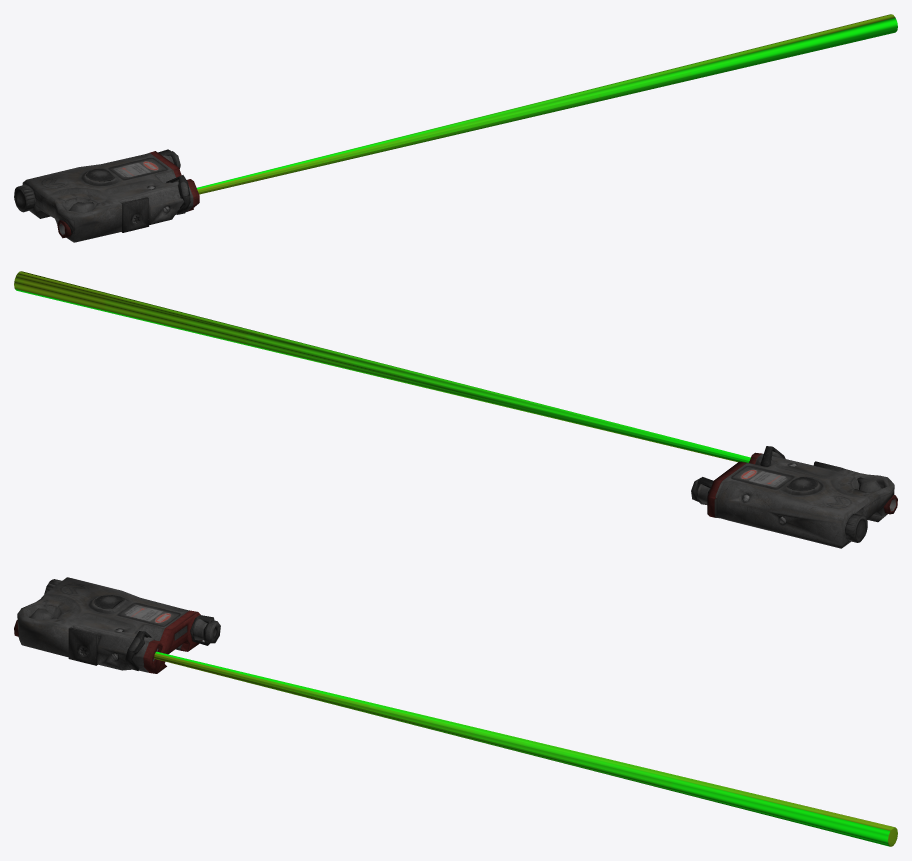
File: LaserLight.fbx
3 renders of one model, top to bottom at view 1: azimuth 30°, elevation 25°; view 2: azimuth 150°, elevation 25°; view 3: azimuth 330°, elevation 25°, orthographic. The views are drawn at different scales.
Visible parts, largest first — view 1: TacLaserLight; view 2: TacLaserLight; view 3: TacLaserLight.
Boxes of the visible parts, left/top/right/bottom form: TacLaserLight: left=14, top=14, right=897, bottom=242; TacLaserLight: left=14, top=271, right=897, bottom=548; TacLaserLight: left=14, top=577, right=897, bottom=846.
Bounding box in the file's own units: 0.315 × 0.0138 × 0.0365.
